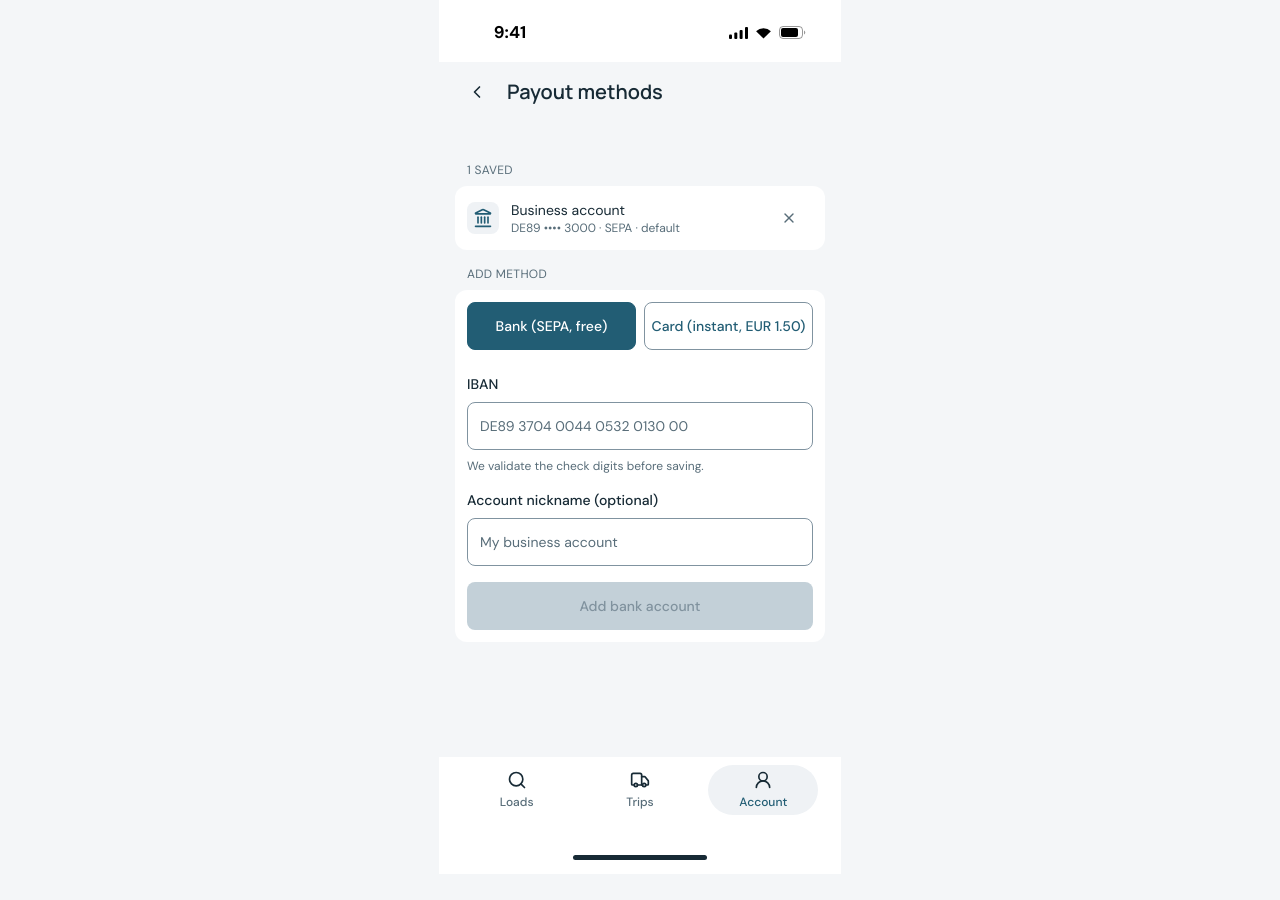
Scenario: asks for confirmation before removing a payout method
Expected: the heading "1 saved" is shown, [467,162,513,178]
Click the button named "Remove Business account": (789, 218) [765,194,813,242]
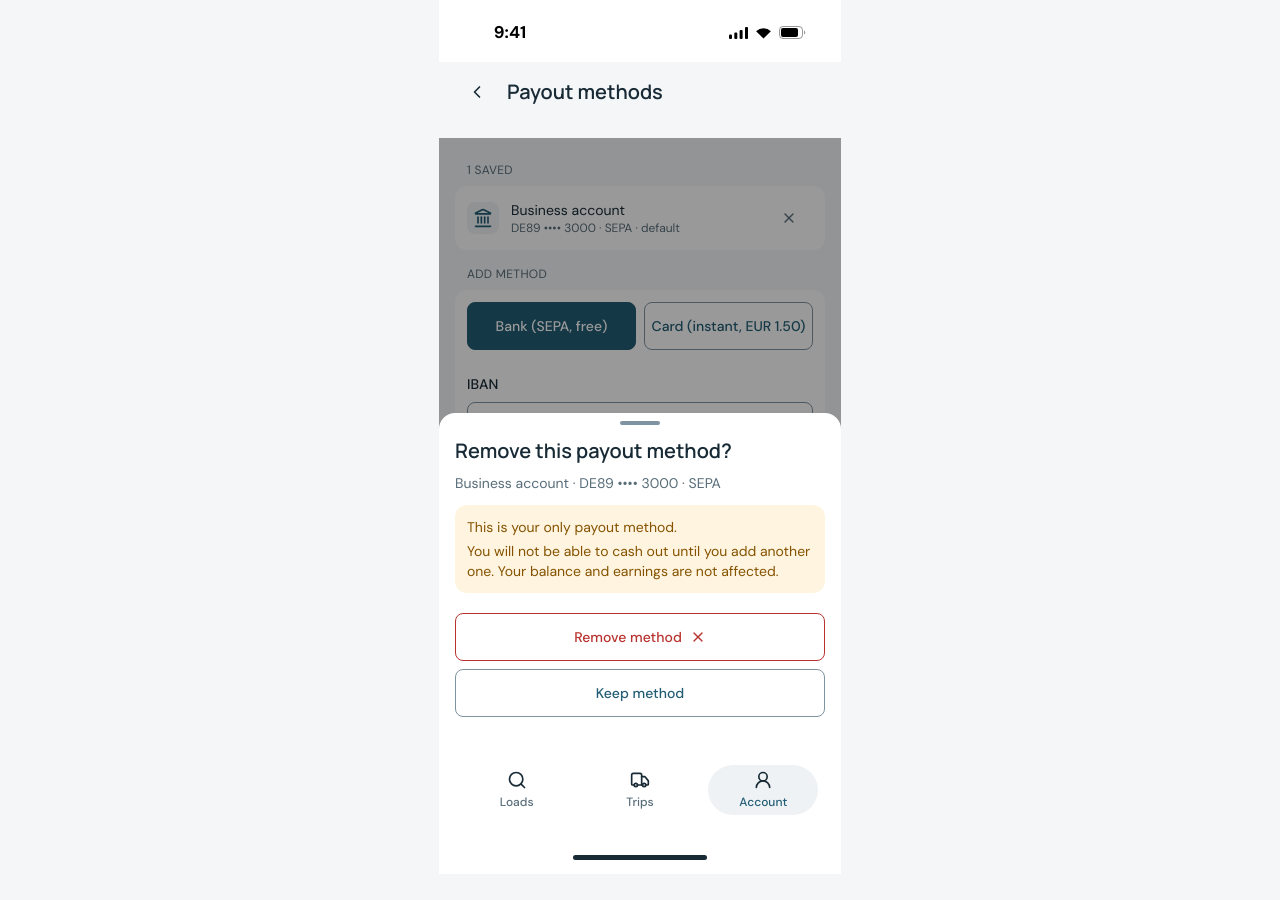
Now the heading "Remove this payout method?" is shown, box [455,437,732,464]
Now the text "This is your only payout method." is shown, box [467,518,677,536]
Now the text "will not be able to cash out" is shown, box [467,542,810,580]
Click the button "Keep method": (640, 693) [455,669,825,717]
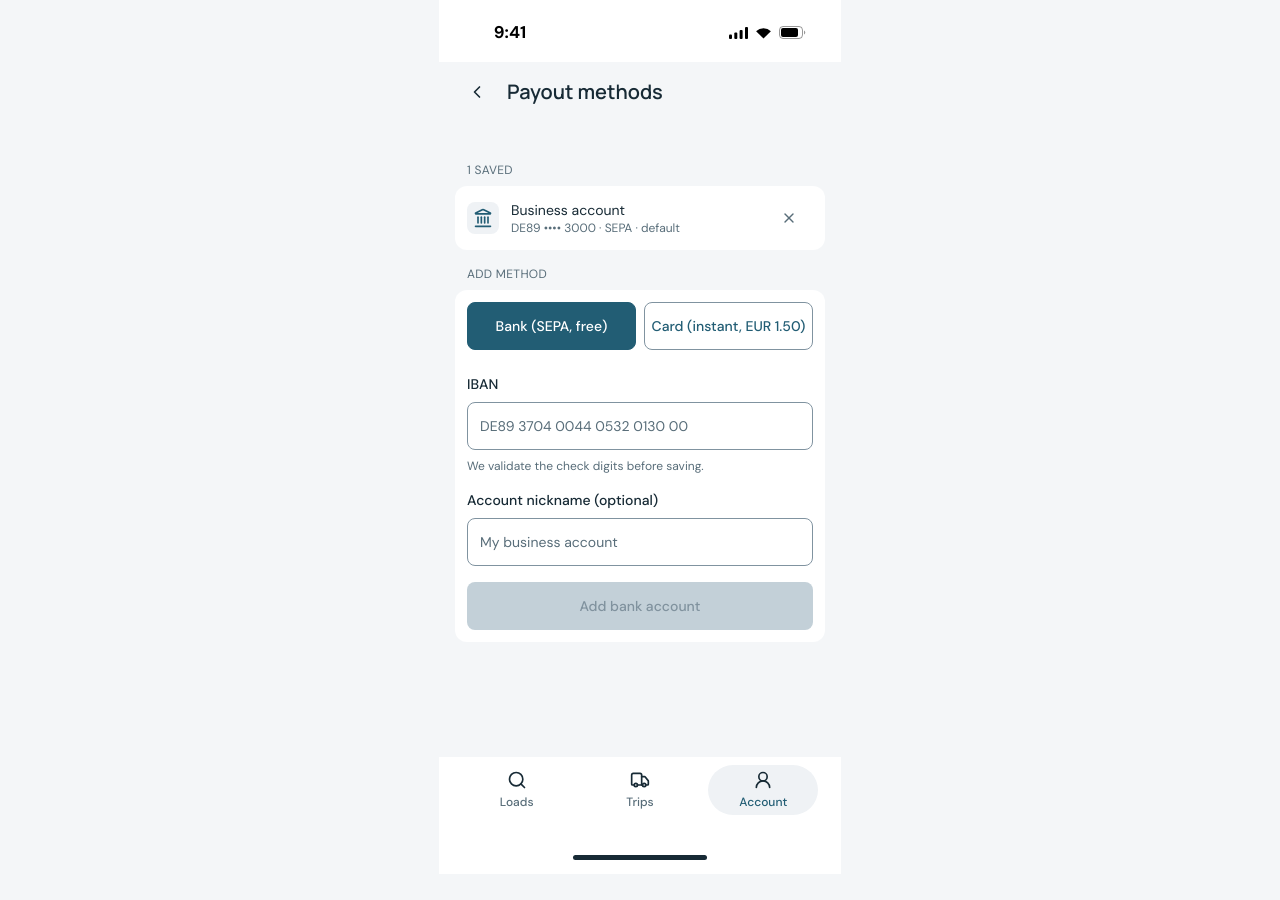
Now the heading "Remove this payout method?" is gone
